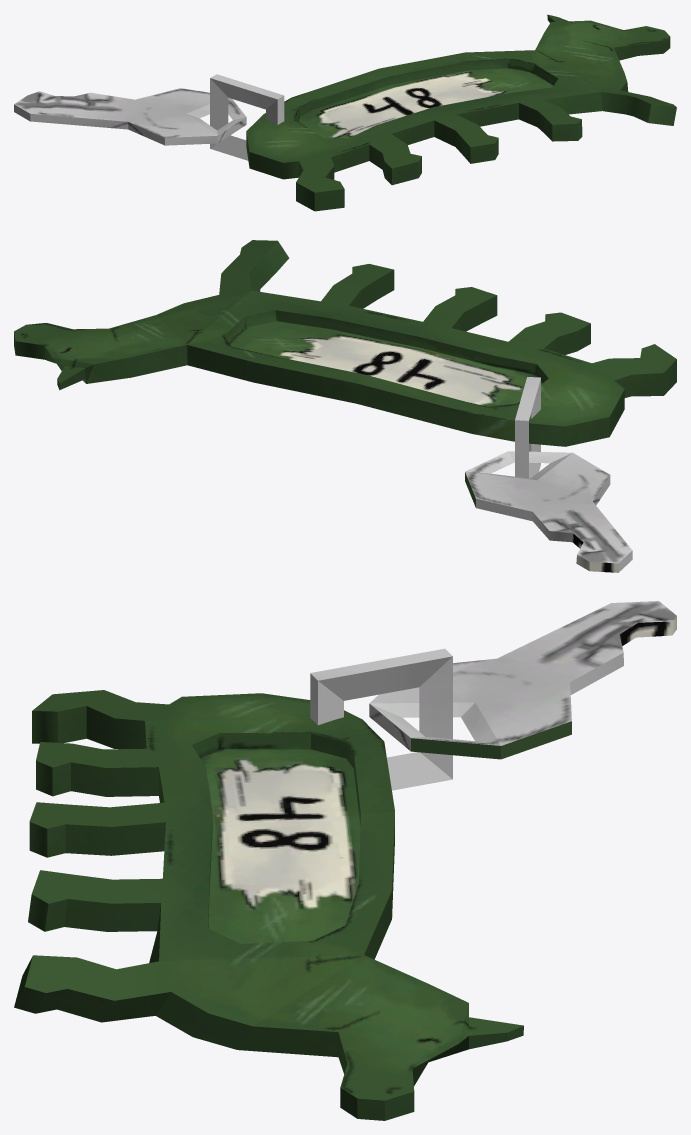
The model's file is longhorsekey.obj.
3 renders of one model, top to bottom at view 1: azimuth 30°, elevation 25°; view 2: azimuth 150°, elevation 25°; view 3: azimuth 270°, elevation 25°, orthographic. The views are drawn at different scales.
Parts seen in each view (by area): view 1: Quest_HotelKey; view 2: Quest_HotelKey; view 3: Quest_HotelKey.
Boxes of the visible parts, bbox=[...] form: Quest_HotelKey: bbox=[14, 14, 676, 211]; Quest_HotelKey: bbox=[14, 240, 676, 572]; Quest_HotelKey: bbox=[14, 601, 676, 1120].
Size of the model in its own units: 0.7231 by 0.0855 by 0.417.
